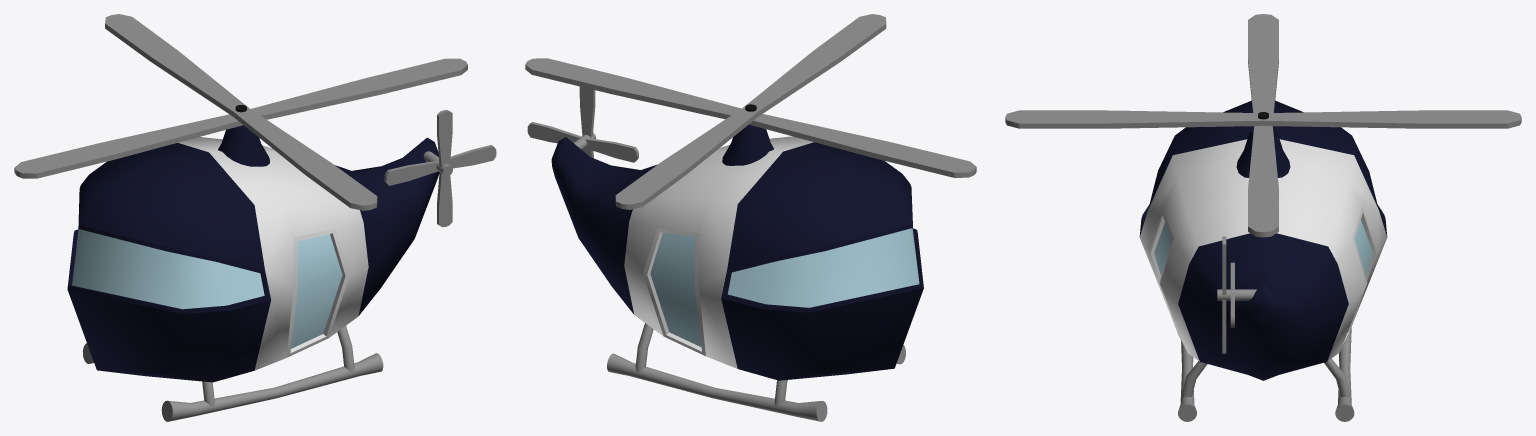
Rendered from M_Helicoptere.FBX.
3 views of the same model, side by side, from view 1: azimuth 30°, elevation 25°; view 2: azimuth 150°, elevation 25°; view 3: azimuth 270°, elevation 25° (orthographic).
Parts seen in each view (by area): view 1: Helicoptere, Object001, Object002; view 2: Helicoptere, Object001, Object002; view 3: Helicoptere, Object001, Object002.
Part boxes in pixels (x1,y1,x2,y2): Helicoptere: (67, 105, 452, 421); Object001: (14, 14, 467, 210); Object002: (384, 110, 496, 227); Helicoptere: (551, 104, 923, 421); Object001: (525, 14, 976, 209); Object002: (527, 86, 638, 162); Helicoptere: (1139, 100, 1387, 421); Object001: (1005, 14, 1521, 237); Object002: (1222, 236, 1234, 353).
Size of the model in its own units: 5.12 by 4.96 by 2.77.
